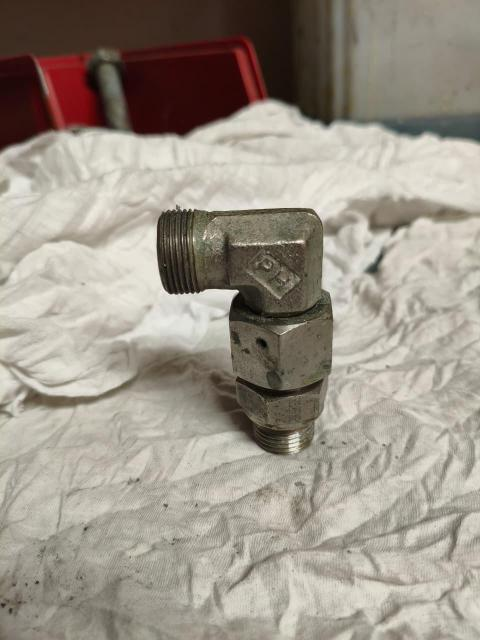Metal: (157, 207, 337, 443)
